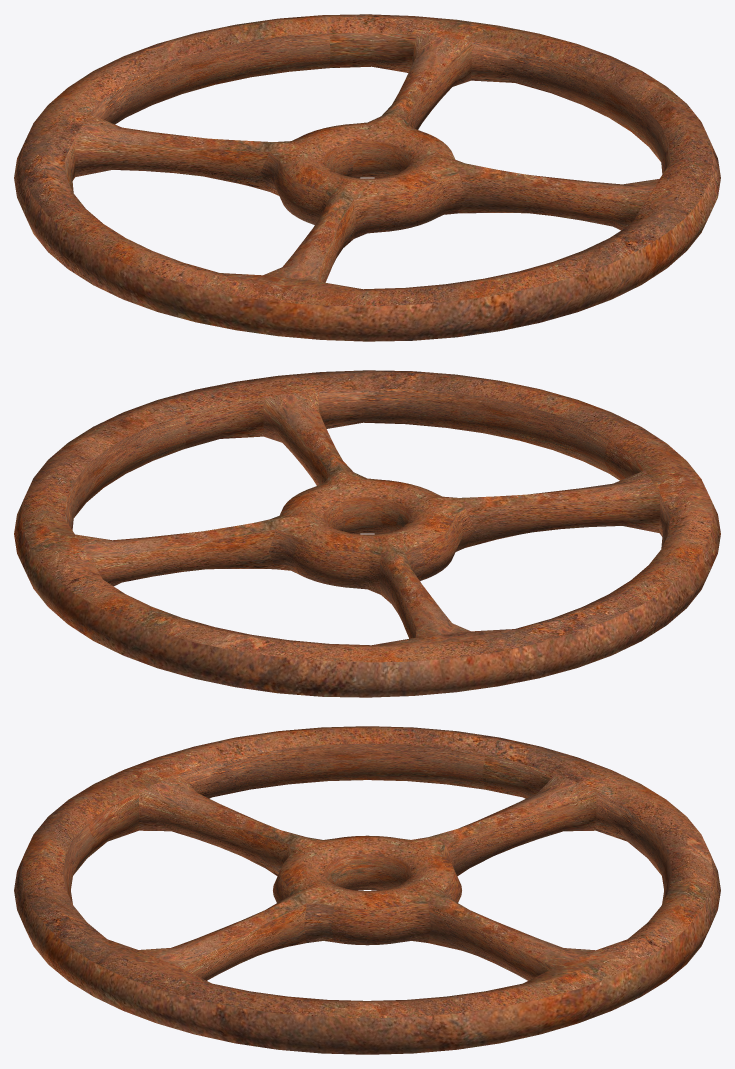
The model's file is valve.fbx.
The picture shows the model from 3 angles, top to bottom: view 1: azimuth 30°, elevation 25°; view 2: azimuth 150°, elevation 25°; view 3: azimuth 270°, elevation 25°; orthographic projection.
Visible parts, largest first — view 1: valve.001; view 2: valve.001; view 3: valve.001.
Boxes of the visible parts, x1,y1,x2,y2 form: valve.001: (14, 14, 720, 341); valve.001: (14, 370, 720, 697); valve.001: (14, 726, 720, 1054).
Bounding box in the file's own units: 108 × 8.62 × 108.
